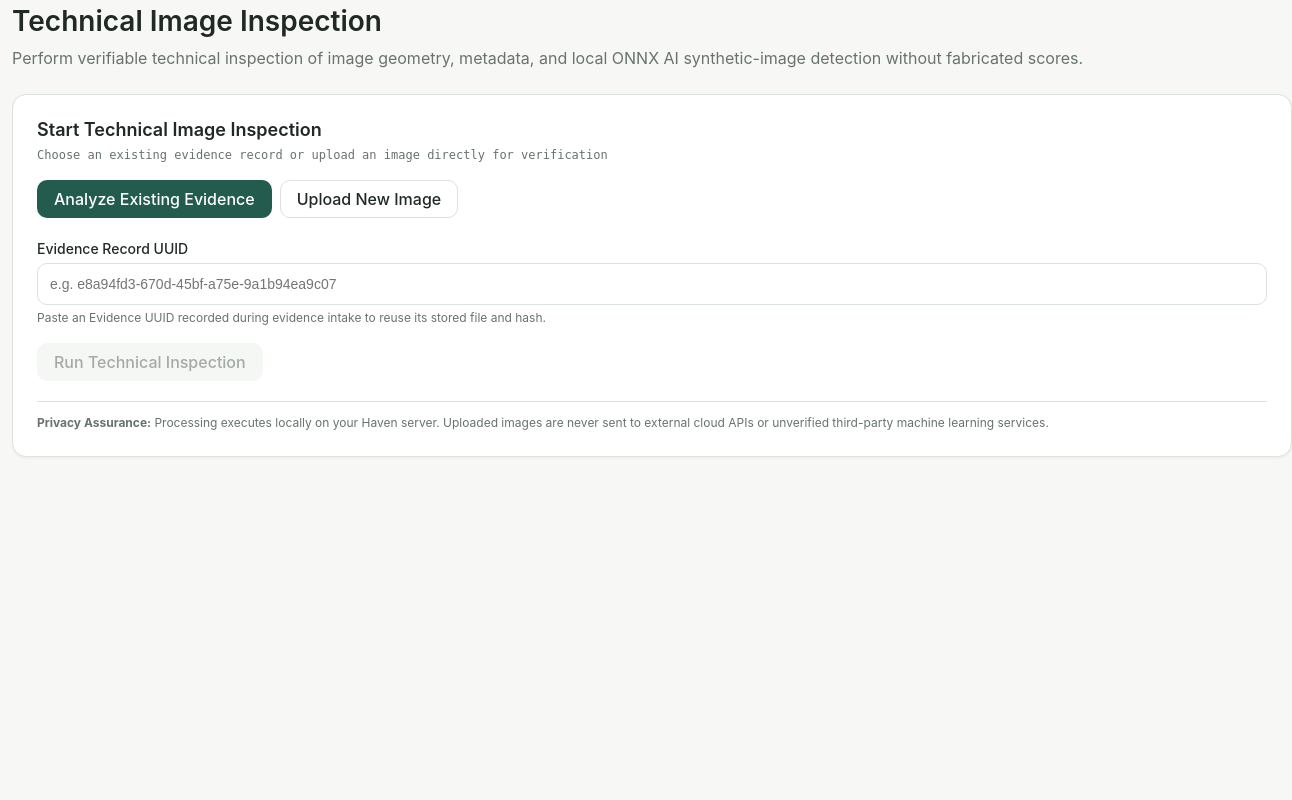
Test: ImageAnalyzer Feature Component › handles backend rejection and displays clear error message
In the field labelled "Evidence Record UUID": (652, 284) [37,262,1267,304], type "ev-not-found"
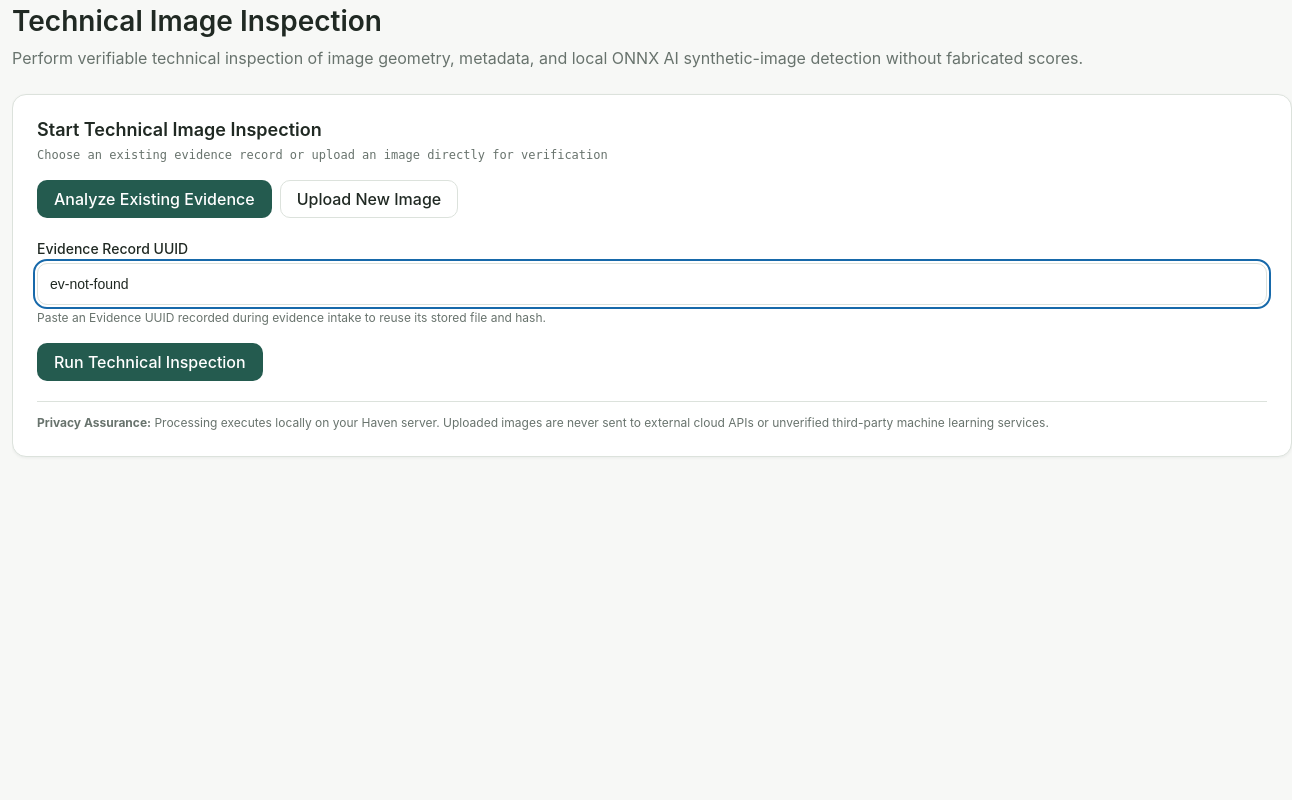
Click the button "Run Technical Inspection": (150, 362) [37,342,263,380]
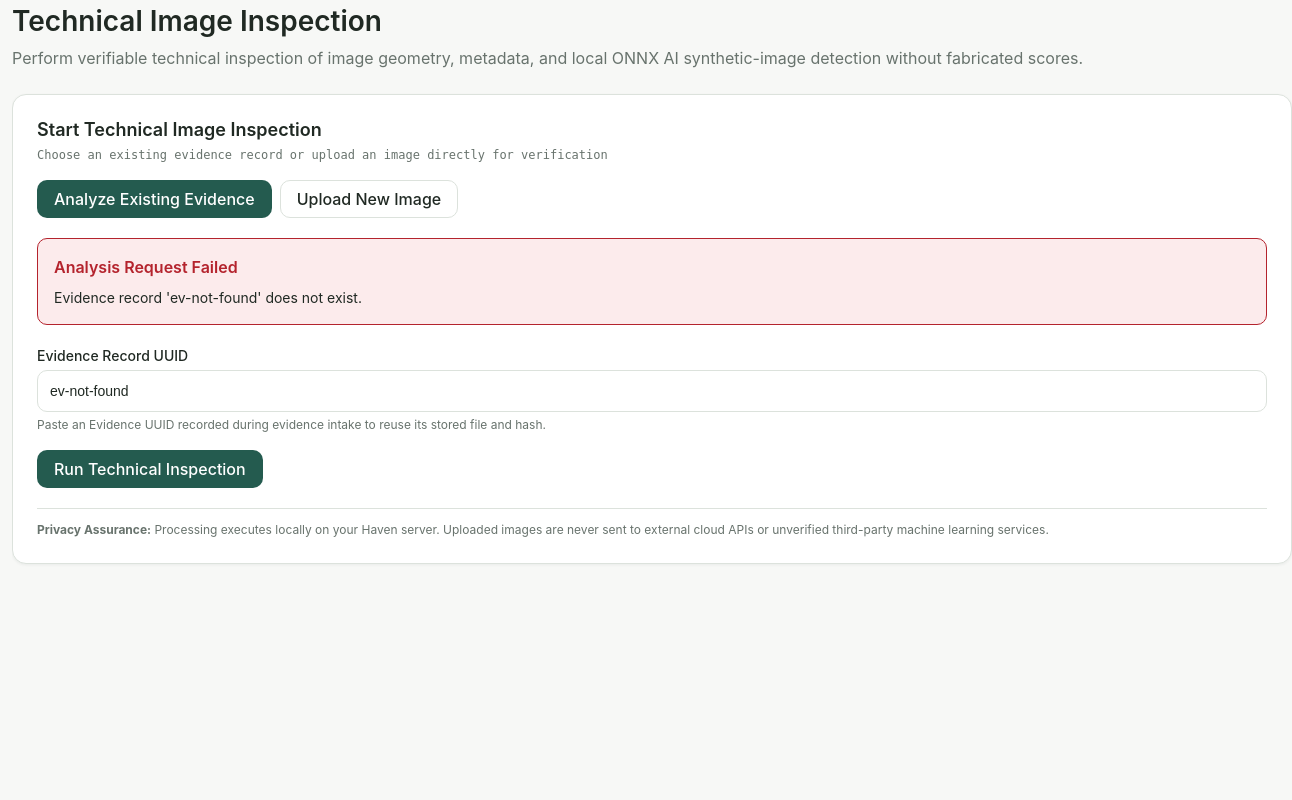
Expected: the text "Analysis Request Failed" is shown, [54,256,238,276]
Expected: the text "Evidence record 'ev-not-found' does not exist." is shown, [54,288,362,306]
